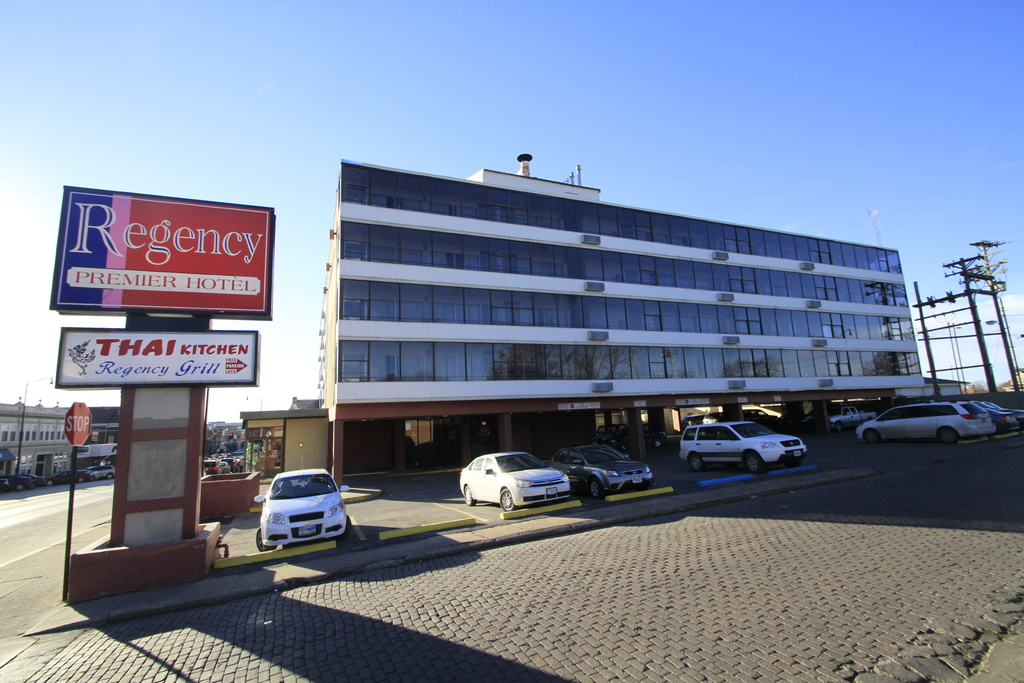Car: (248, 472, 358, 560), (458, 445, 570, 511), (847, 397, 992, 444), (679, 415, 806, 467), (550, 437, 651, 497), (967, 394, 1018, 432), (830, 400, 880, 425), (84, 460, 112, 477)
